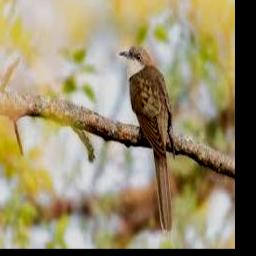Cuckoo: (118, 46, 174, 236)
